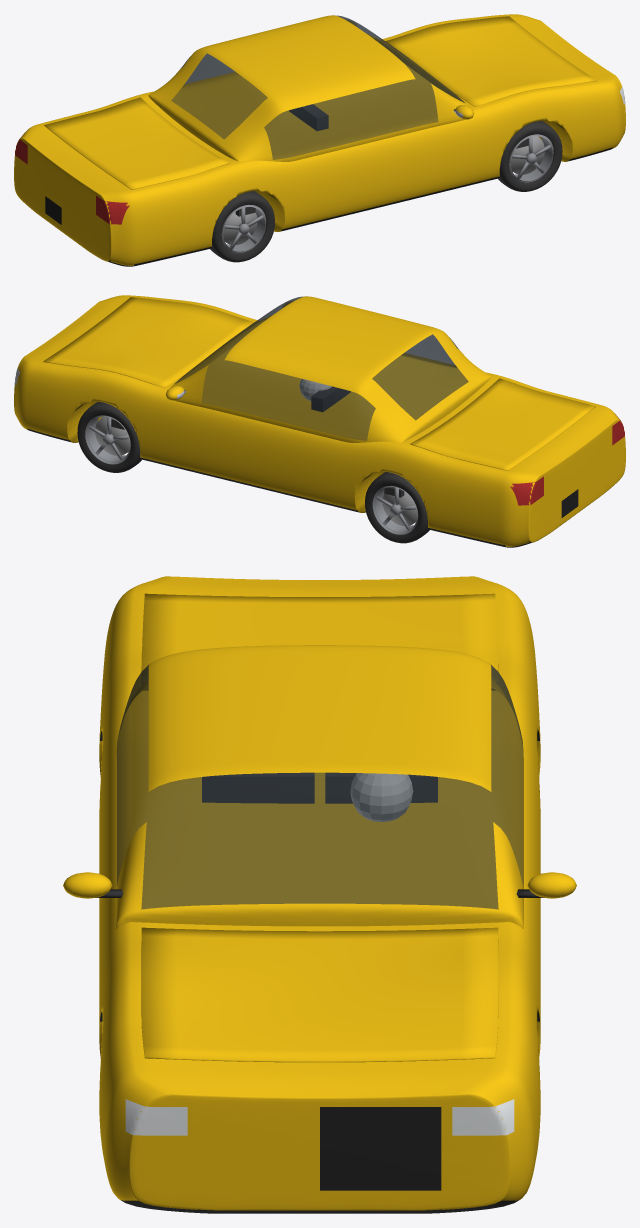
File: derby_vesta_metro_cab.glb
3 views of the same model, one above another, from view 1: azimuth 30°, elevation 25°; view 2: azimuth 150°, elevation 25°; view 3: azimuth 270°, elevation 25° (orthographic). The views are drawn at different scales.
Parts seen in each view (by area): view 1: body, cabin, bonnet, bumper_rear, boot, wheel_fr_spin, wheel_rr_spin, bumper_front, interior; view 2: body, cabin, bonnet, bumper_rear, boot, wheel_fl_spin, wheel_rl_spin, bumper_front, interior; view 3: cabin, body, bumper_front, bonnet, boot, interior, bumper_rear, mirror_l, mirror_r.
Boxes of the visible parts, bbox=[...] form: body: bbox=[39, 15, 604, 265]; cabin: bbox=[148, 15, 472, 161]; bonnet: bbox=[385, 16, 596, 106]; bumper_rear: bbox=[14, 124, 139, 266]; boot: bbox=[44, 97, 229, 189]; wheel_fr_spin: bbox=[498, 120, 562, 191]; wheel_rr_spin: bbox=[210, 191, 274, 262]; bumper_front: bbox=[504, 14, 625, 152]; interior: bbox=[289, 104, 328, 131]; body: bbox=[35, 296, 600, 546]; cabin: bbox=[167, 296, 491, 442]; bonnet: bbox=[43, 297, 254, 387]; bumper_rear: bbox=[500, 405, 625, 547]; boot: bbox=[410, 378, 595, 470]; wheel_fl_spin: bbox=[77, 401, 141, 472]; wheel_rl_spin: bbox=[365, 472, 429, 543]; bumper_front: bbox=[14, 295, 135, 433]; interior: bbox=[299, 379, 350, 412]; cabin: bbox=[116, 645, 523, 928]; body: bbox=[99, 592, 540, 1159]; bumper_front: bbox=[103, 1055, 536, 1213]; bonnet: bbox=[141, 927, 498, 1062]; boot: bbox=[141, 593, 498, 682]; interior: bbox=[202, 772, 437, 821]; bumper_rear: bbox=[111, 576, 528, 618]; mirror_l: bbox=[516, 872, 576, 898]; mirror_r: bbox=[63, 872, 123, 898].
Bounding box in the file's own units: 5.31 × 1.42 × 2.28.
